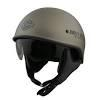helmet: (18, 9, 85, 68)
